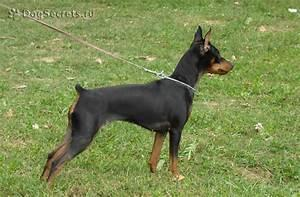dog: (39, 25, 234, 190)
